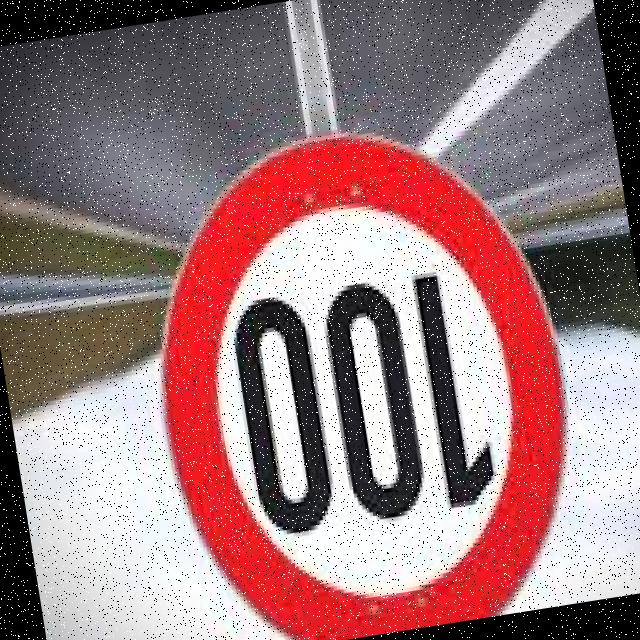speed_limit_100: (124, 103, 605, 640)
